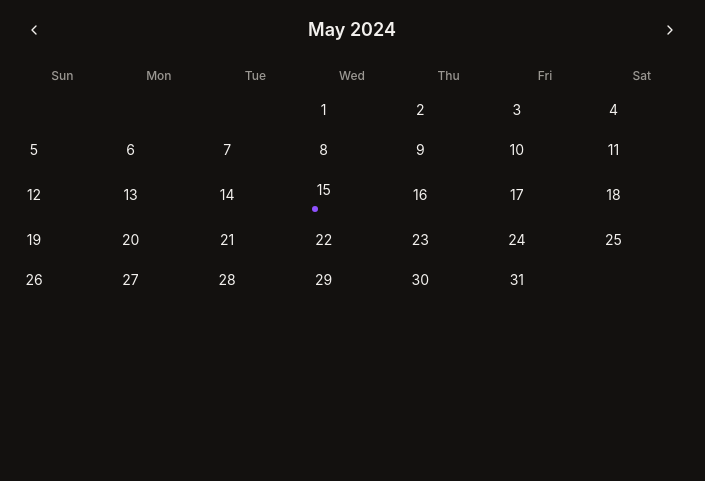
it: MonthCalendar › displays correct age label for non-birthday events
The width and height of the screenshot is (705, 481).
Click the button "15": (352, 195) [306,172,398,218]
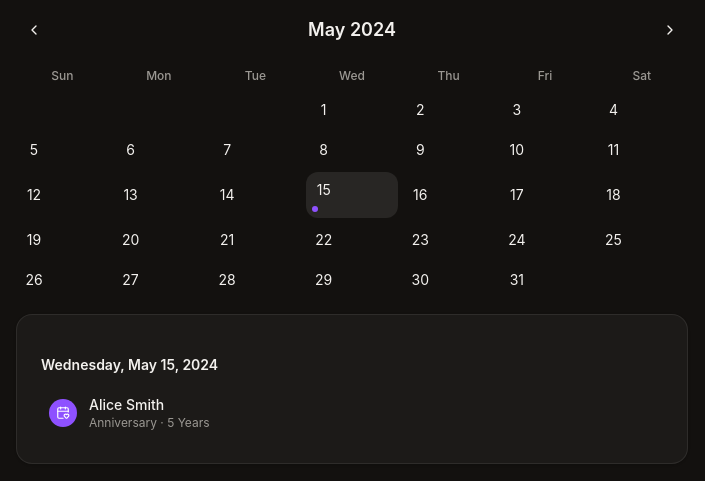
expect the text "anniversary · 5 years" is shown: met, box [89,415,210,431]
